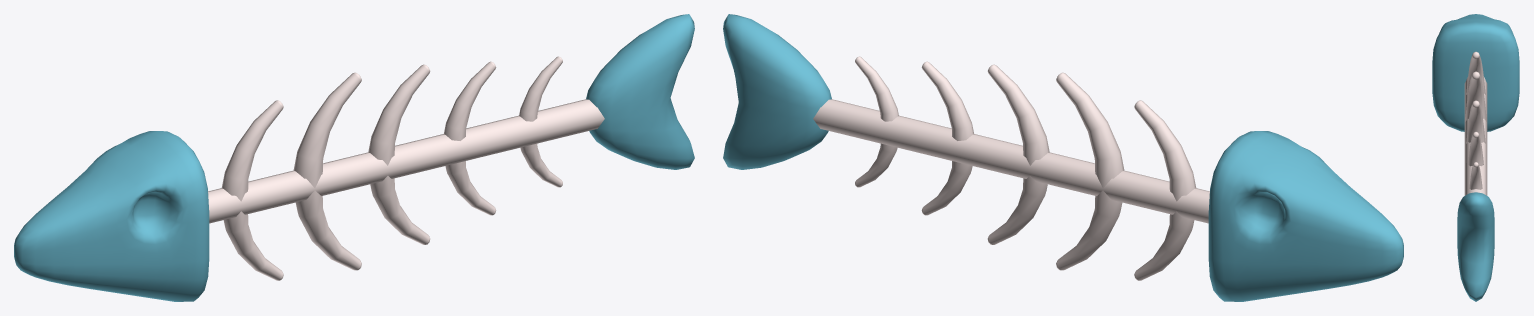
Rendered from Skeleton_Fish_4.fbx.
The picture shows the model from 3 angles, left to right: view 1: azimuth 30°, elevation 25°; view 2: azimuth 150°, elevation 25°; view 3: azimuth 270°, elevation 25°; orthographic projection. The views are drawn at different scales.
Visible parts, largest first — view 1: Skeleton_Fish_4; view 2: Skeleton_Fish_4; view 3: Skeleton_Fish_4.
Part boxes in pixels (left/top/right/bottom): Skeleton_Fish_4: left=14, top=14, right=694, bottom=301; Skeleton_Fish_4: left=723, top=14, right=1403, bottom=301; Skeleton_Fish_4: left=1432, top=14, right=1519, bottom=301.
Size of the model in its own units: 69.47 by 19.28 by 11.38.
